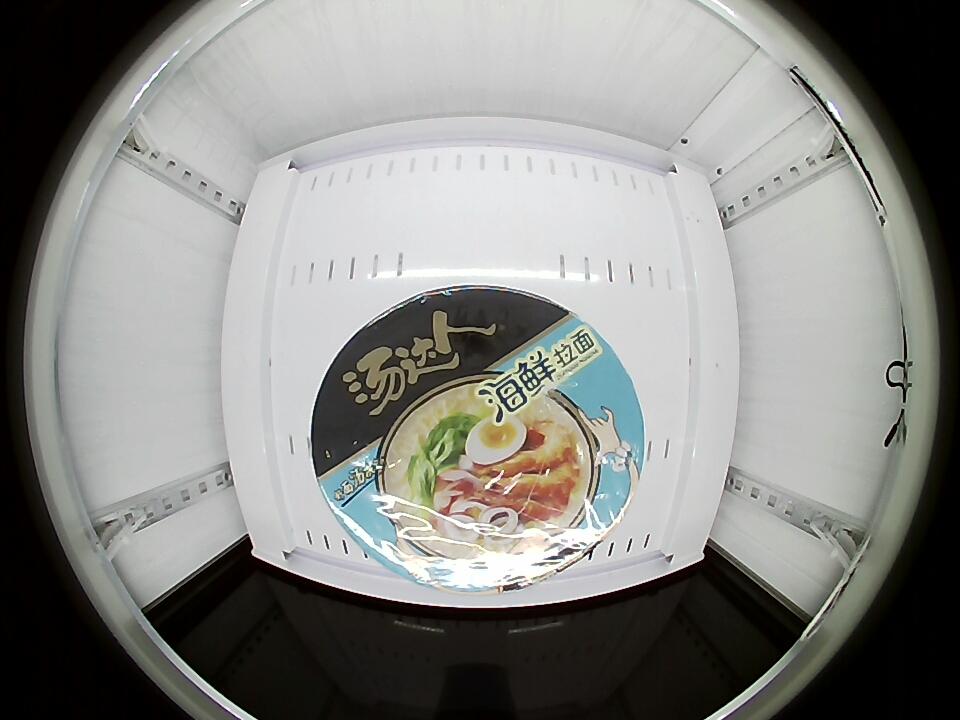tangdaren3: (309, 284, 644, 594)
